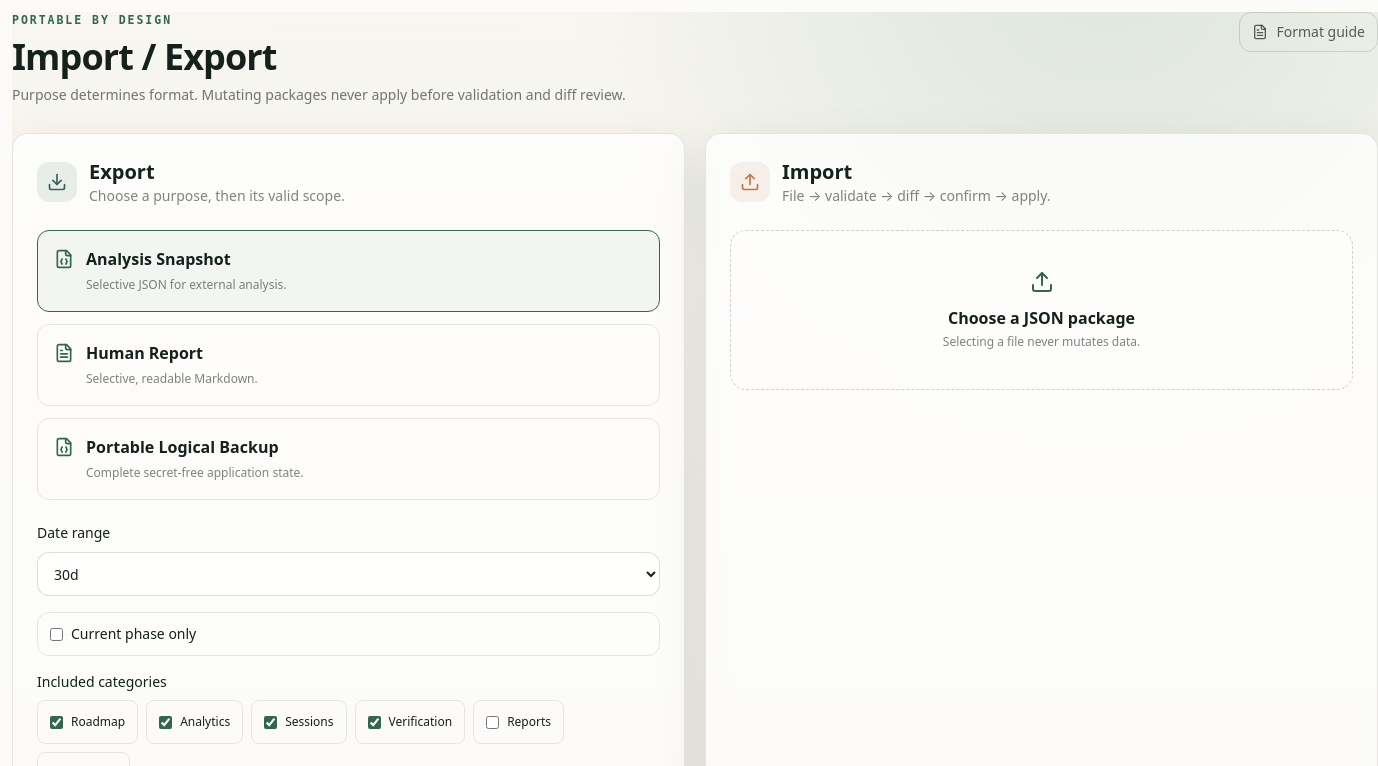
frontend polish regressions › keeps portable backup complete while other exports stay selective
Expected: the dropdown labelled "Date range" is shown, [37,552,660,596]
Expected: the checkbox labelled "roadmap" is checked, [50,716,63,729]
Click the button "Portable Logical Backup" at (182, 447), box [37,418,660,500]
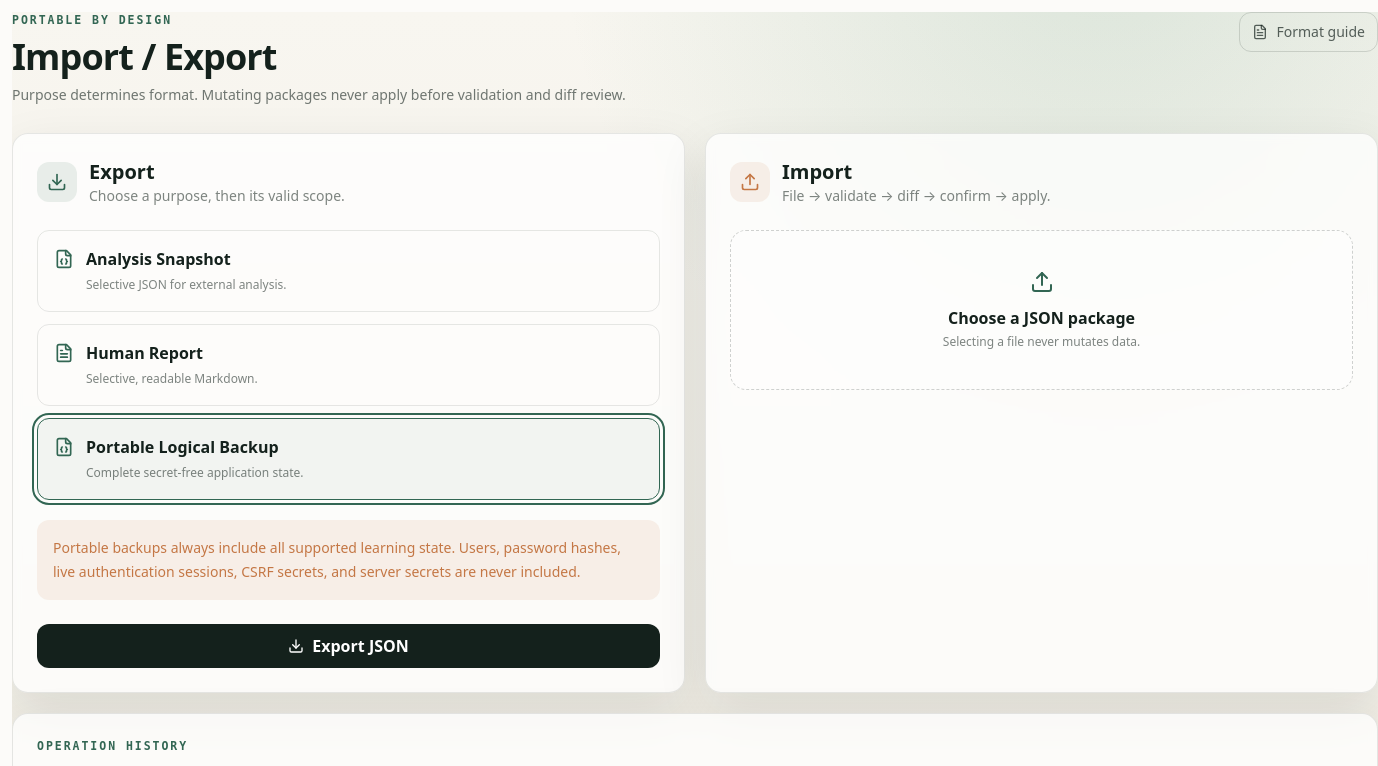
Now the label labelled "Date range" is gone
Now the text "Included categories" is gone
Now the text "always include all supported learning state" is shown, box [53,538,621,581]
